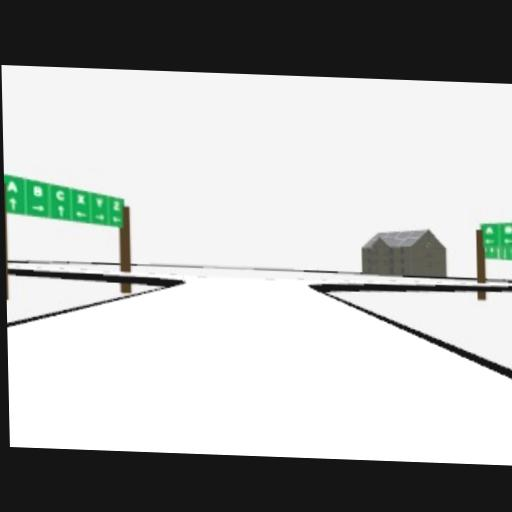A: (5, 179, 19, 192), (485, 226, 494, 236)
B: (33, 185, 43, 197), (504, 226, 512, 235)
C: (56, 189, 65, 201)
Left: (56, 203, 65, 217), (75, 210, 87, 218), (112, 216, 121, 224)
Right: (93, 213, 106, 222), (31, 203, 44, 211)
Straight: (10, 196, 17, 210)
X: (78, 195, 85, 205)
Y: (95, 197, 104, 208)
Z: (112, 200, 121, 212)
